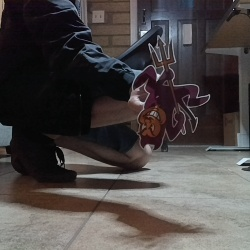sparky: (130, 34, 210, 151)
